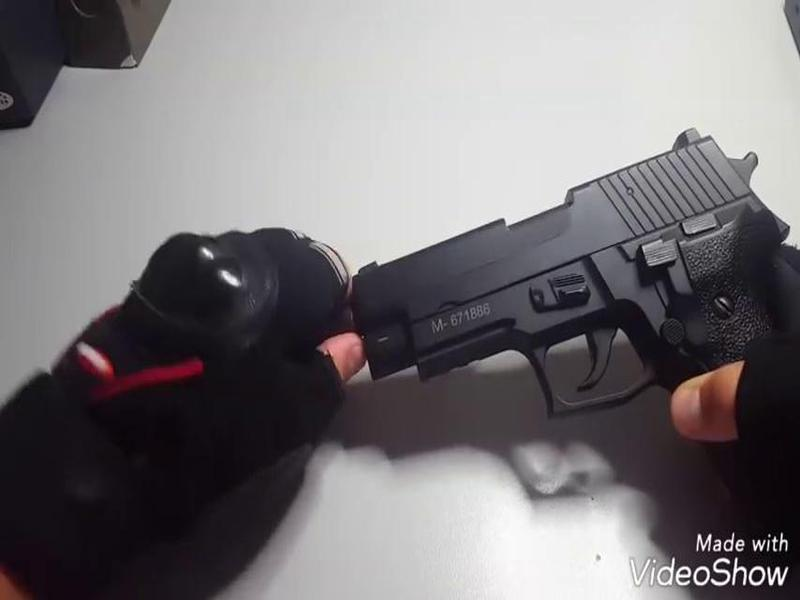Pistola: (337, 113, 800, 455)
